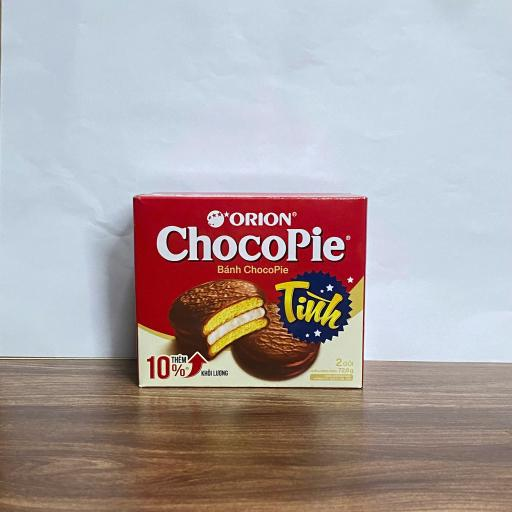chocopie: (134, 193, 367, 390)
